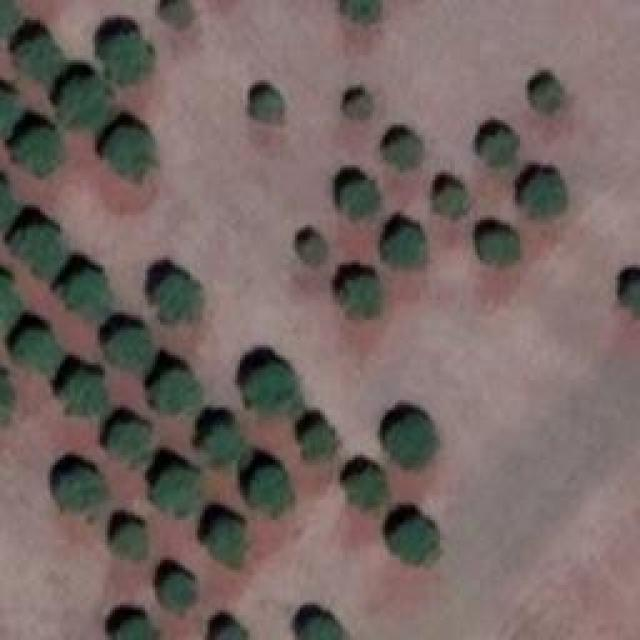Tree: (15, 220, 70, 273), (243, 363, 296, 418), (103, 125, 153, 180), (150, 465, 200, 520), (105, 33, 155, 86), (105, 320, 155, 373), (10, 127, 65, 175), (155, 268, 203, 323), (62, 78, 110, 128), (62, 268, 110, 318), (52, 463, 100, 513), (102, 415, 150, 465), (380, 415, 430, 463), (248, 465, 293, 518), (338, 175, 383, 223), (388, 512, 433, 560), (153, 365, 196, 415), (198, 415, 241, 463), (18, 325, 63, 370), (338, 275, 381, 320), (65, 368, 108, 411), (207, 515, 245, 563), (158, 568, 198, 613), (18, 38, 61, 78), (478, 130, 521, 170), (525, 173, 563, 218), (387, 225, 425, 268), (343, 468, 383, 508), (290, 610, 343, 640), (528, 73, 563, 113), (385, 132, 420, 170), (0, 268, 20, 333), (118, 522, 151, 560), (300, 425, 335, 460), (480, 228, 515, 263), (617, 270, 640, 320), (293, 233, 326, 266), (435, 183, 465, 216), (115, 615, 153, 640), (255, 90, 283, 123), (0, 88, 20, 131), (342, 93, 370, 123), (345, 0, 382, 22), (160, 0, 188, 28), (0, 373, 15, 423), (0, 0, 18, 40), (210, 622, 248, 640)
